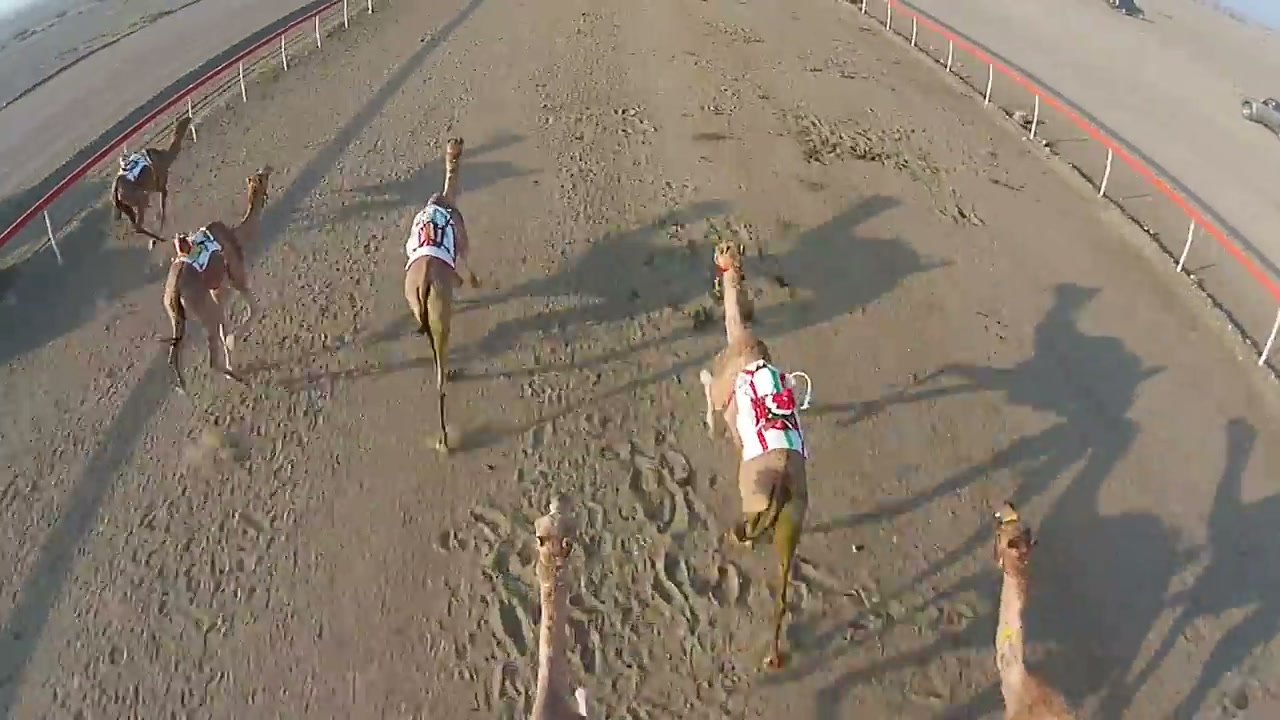animal_foot_print: (75, 347, 340, 718), (437, 400, 571, 709), (624, 426, 749, 673)
